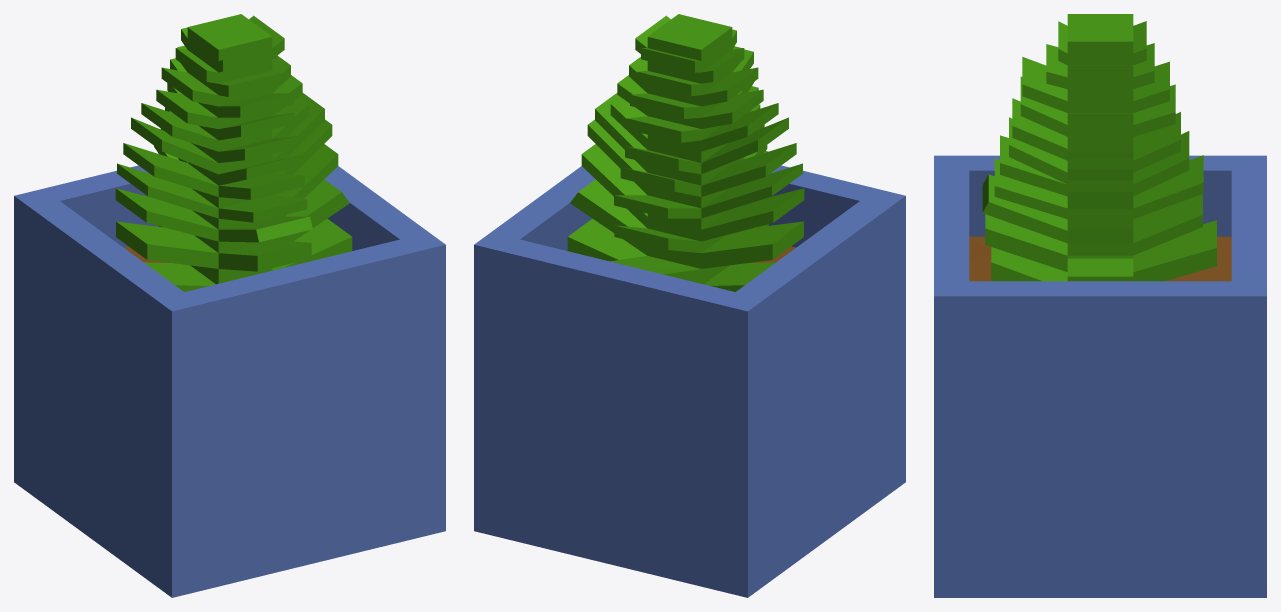
Rendered from Pot Plant.fbx.
3 views of the same model, side by side, from view 1: azimuth 30°, elevation 25°; view 2: azimuth 150°, elevation 25°; view 3: azimuth 270°, elevation 25° (orthographic). The views are drawn at different scales.
Visible parts, largest first — view 1: Plant; view 2: Plant; view 3: Plant.
Part boxes in pixels (x1,y1,x2,y2): Plant: (14, 14, 445, 597); Plant: (474, 14, 905, 597); Plant: (934, 14, 1266, 597).
Size of the model in its own units: 33.71 by 55.87 by 33.71.
Materials: 1 (1 with a texture image).
